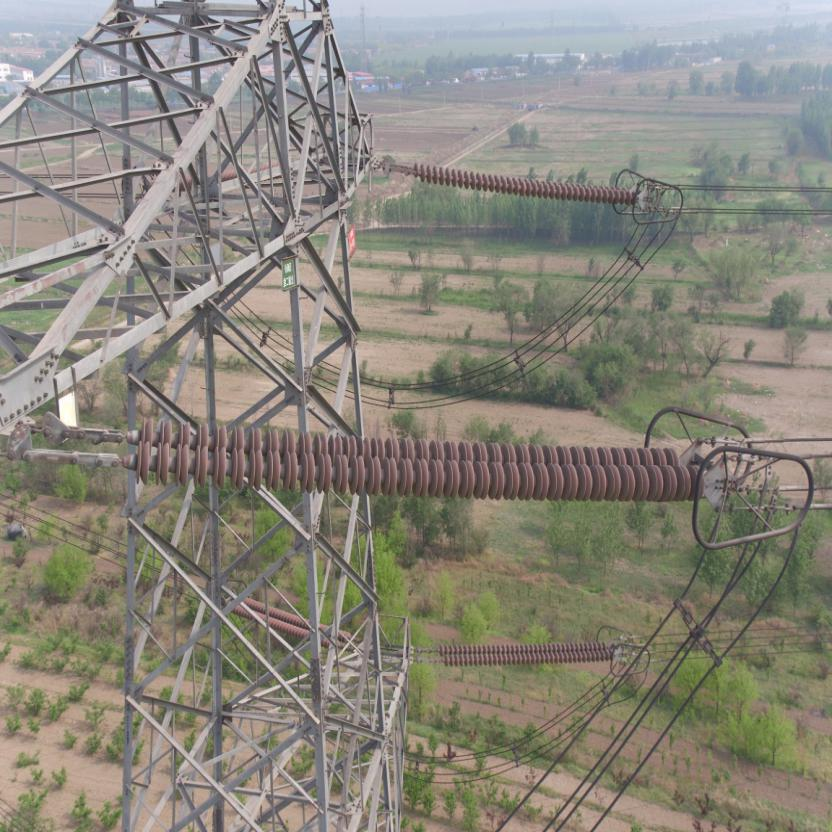insulator: (87, 412, 717, 504), (395, 159, 644, 208), (425, 638, 618, 666)
